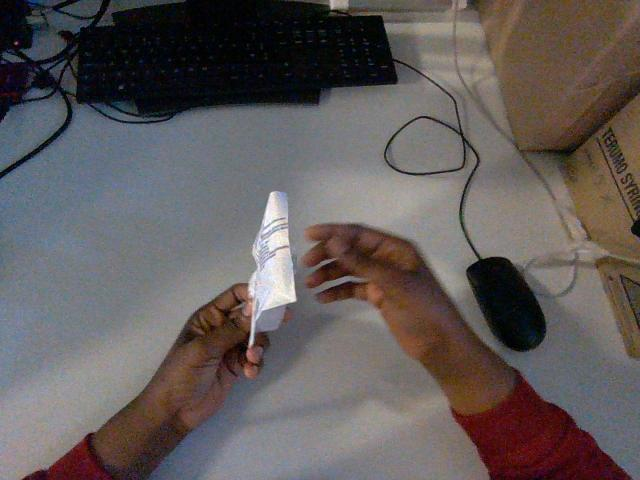syringe: (249, 191, 295, 345)
